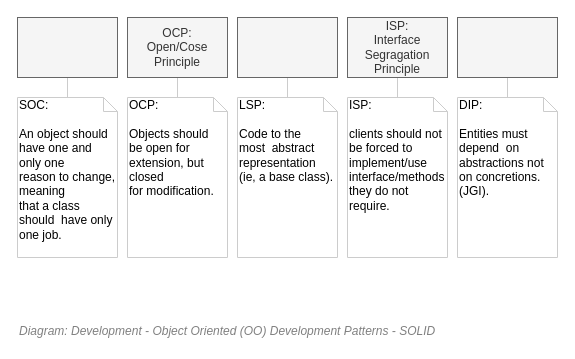
This 575x359 diagram has some shape labels left out. The shapes that lost their labels are listed below. From the top down, each one's centre as x and y in pixels, then its label:
the point at 67,47: SOC: Separation of Concerns
the point at 287,47: LSP: Liskov's Segragation Principle
the point at 507,47: DIP: Dependency Inversion Principle
